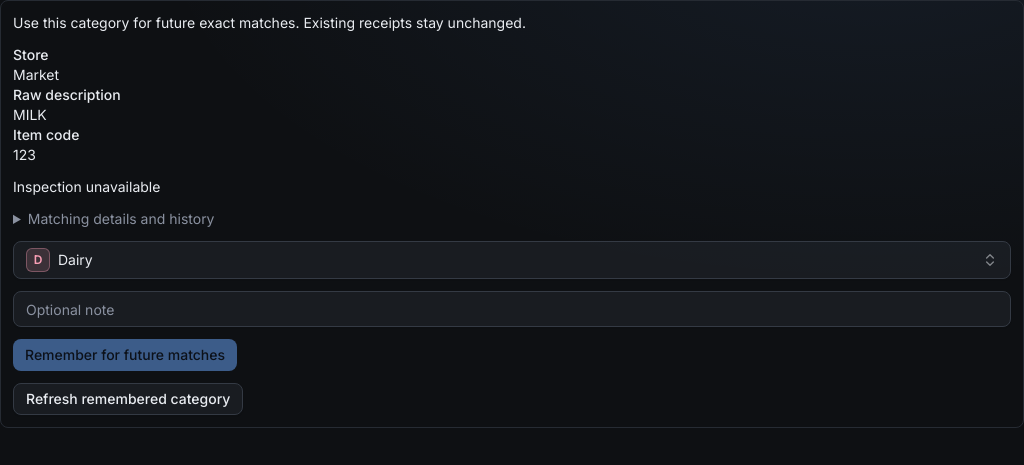
retains inspection and allows retry when mapping lookup fails
Expected: the text "Inspection unavailable" is shown, [13,178,160,195]
Click the button "Refresh remembered category": (128, 399) [13,383,243,415]
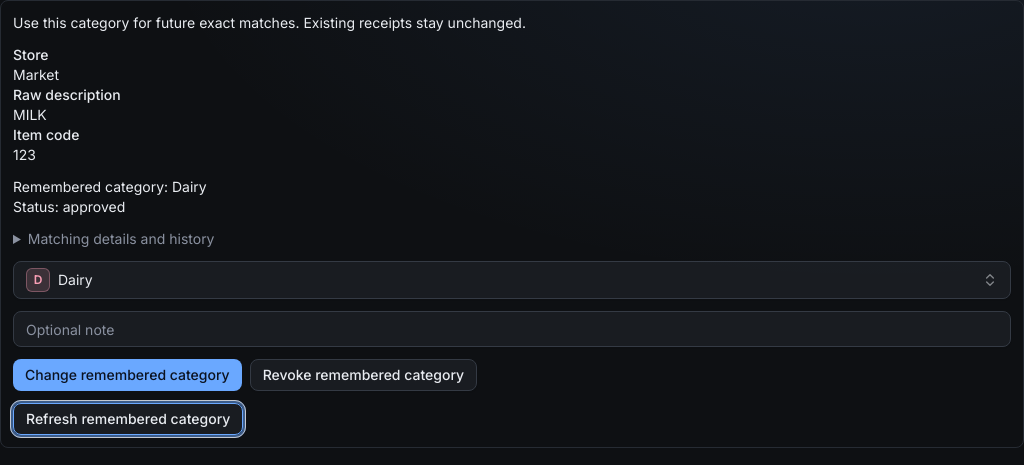
Expected: the text "Remembered category: Dairy" is shown, [13,178,207,195]
